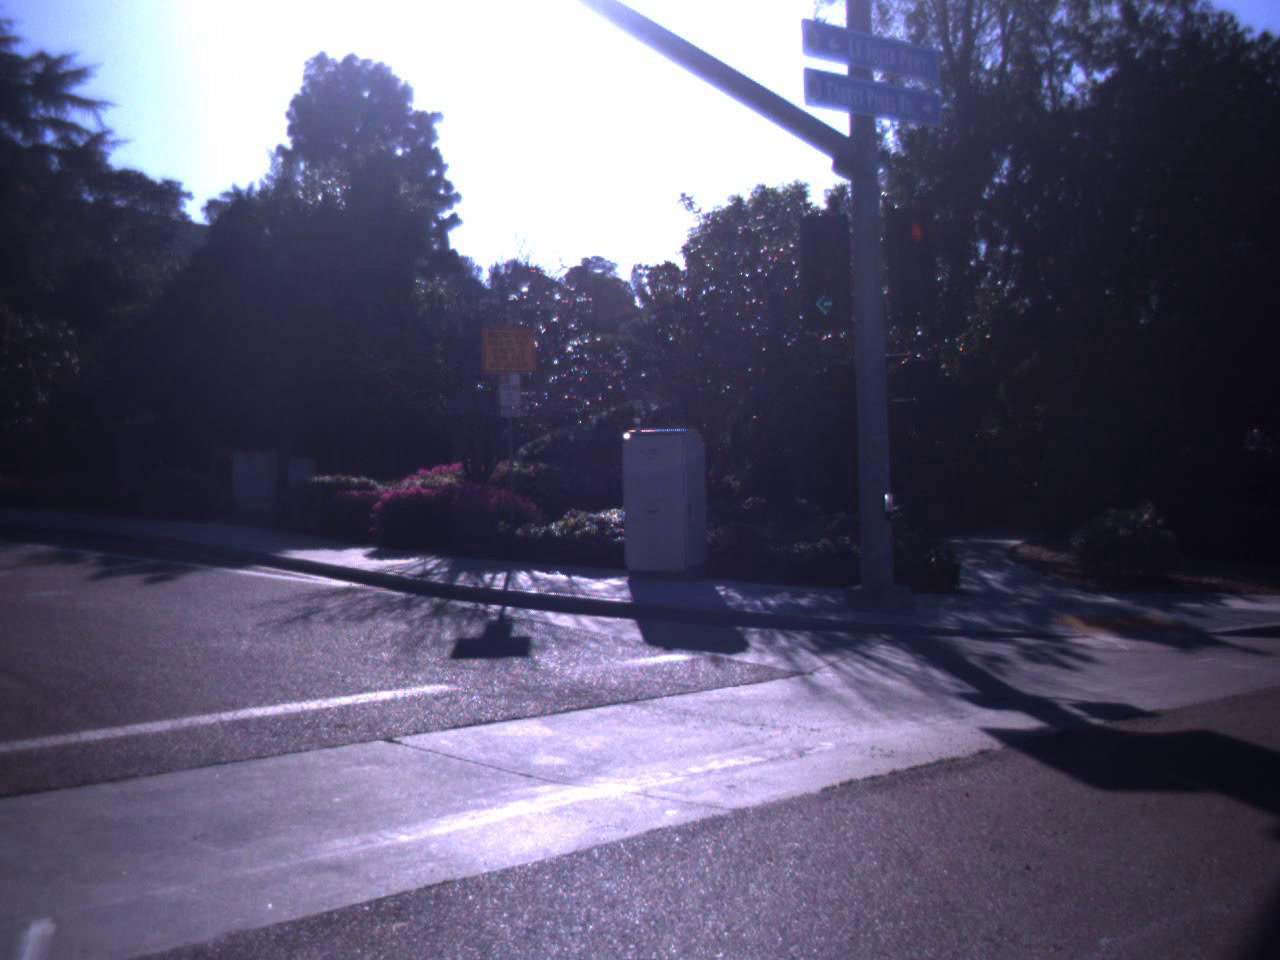go: (796, 218, 853, 323)
